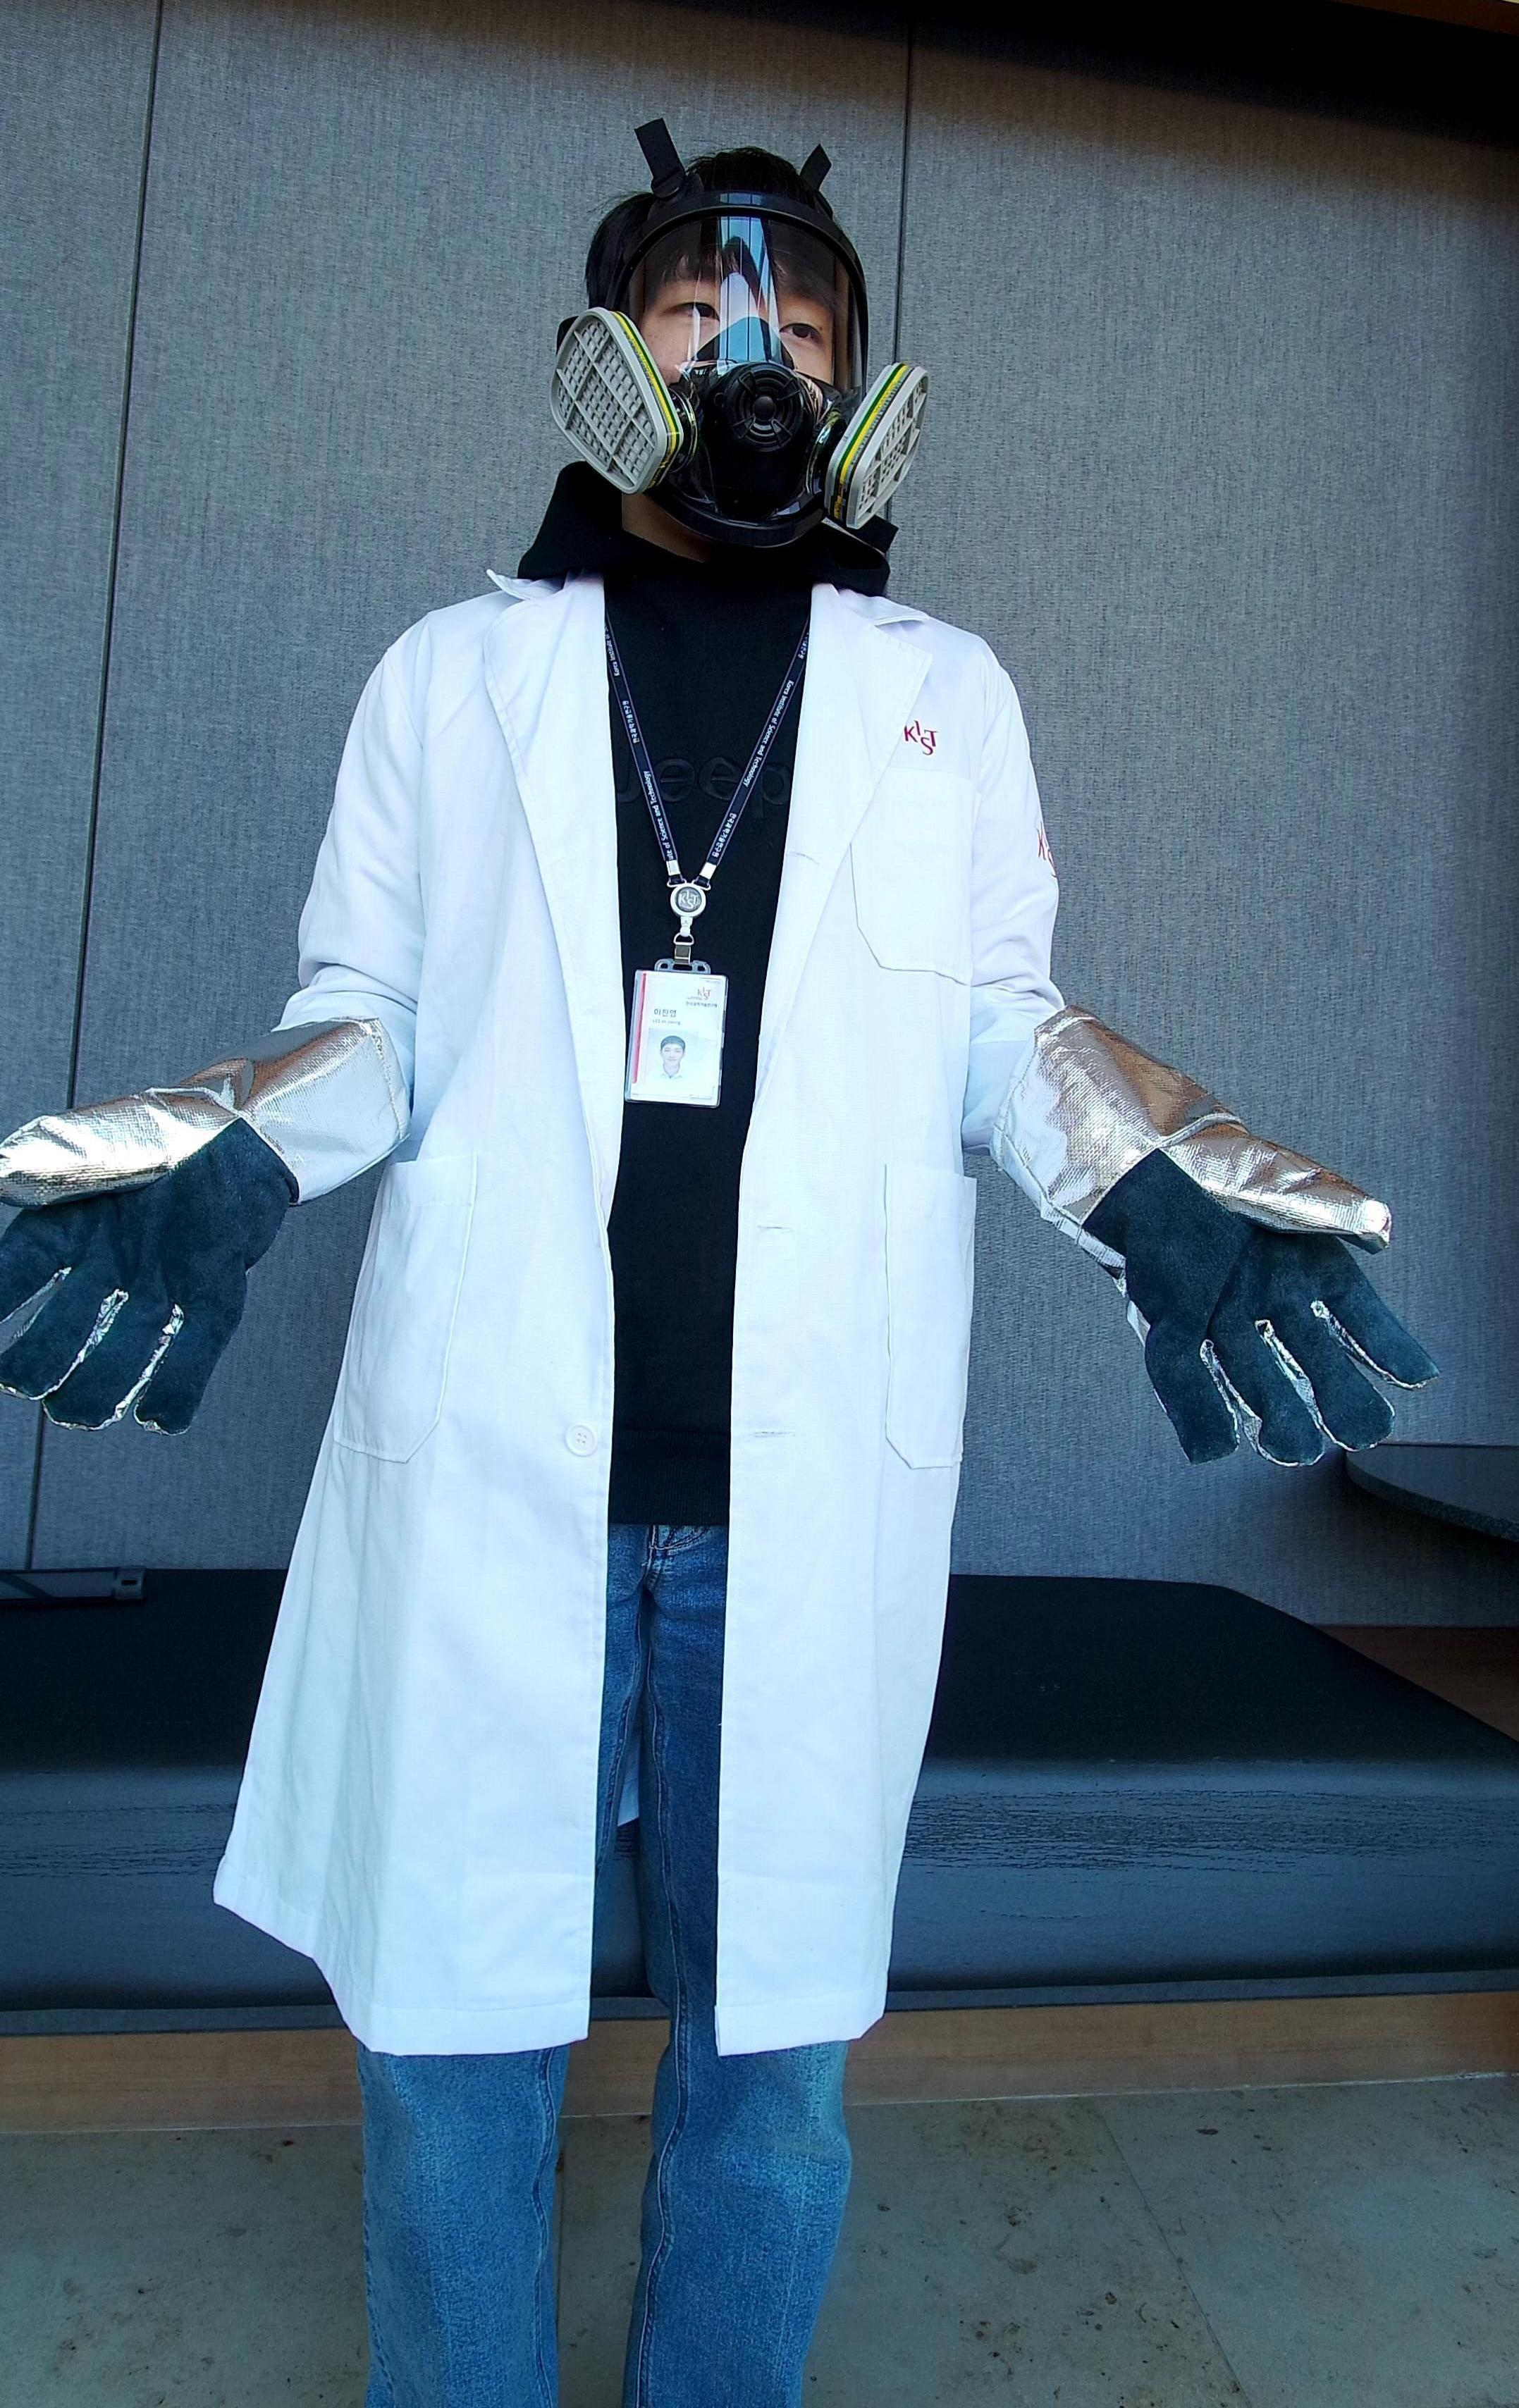lab_coat: (352, 614, 1045, 2036)
